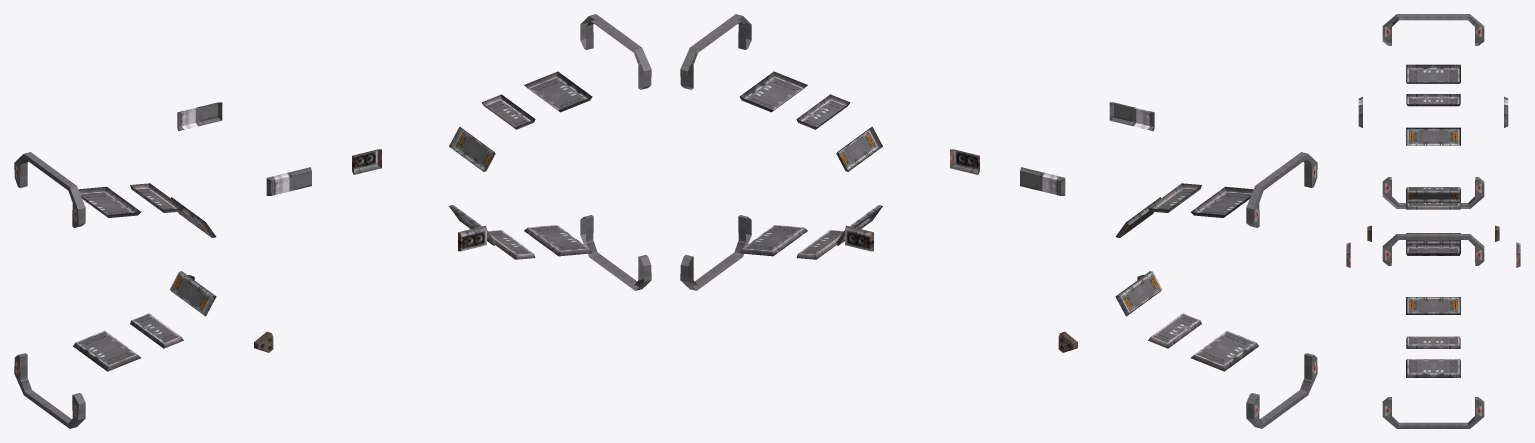
File: Goblins.obj
3 views of the same model, side by side, from view 1: azimuth 30°, elevation 25°; view 2: azimuth 150°, elevation 25°; view 3: azimuth 270°, elevation 25° (orthographic). The views are drawn at different scales.
Parts seen in each view (by area): view 1: hw2Shader; view 2: hw2Shader; view 3: hw2Shader.
Part boxes in pixels (x1,y1,x2,y2): hw2Shader: (14,14,651,428); hw2Shader: (680,14,1317,428); hw2Shader: (1346,14,1520,428).
Size of the model in its own units: 82.57 by 33.24 by 27.25.
